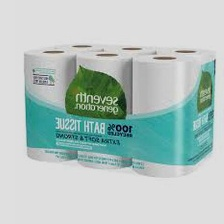tissue: (17, 32, 223, 183)
